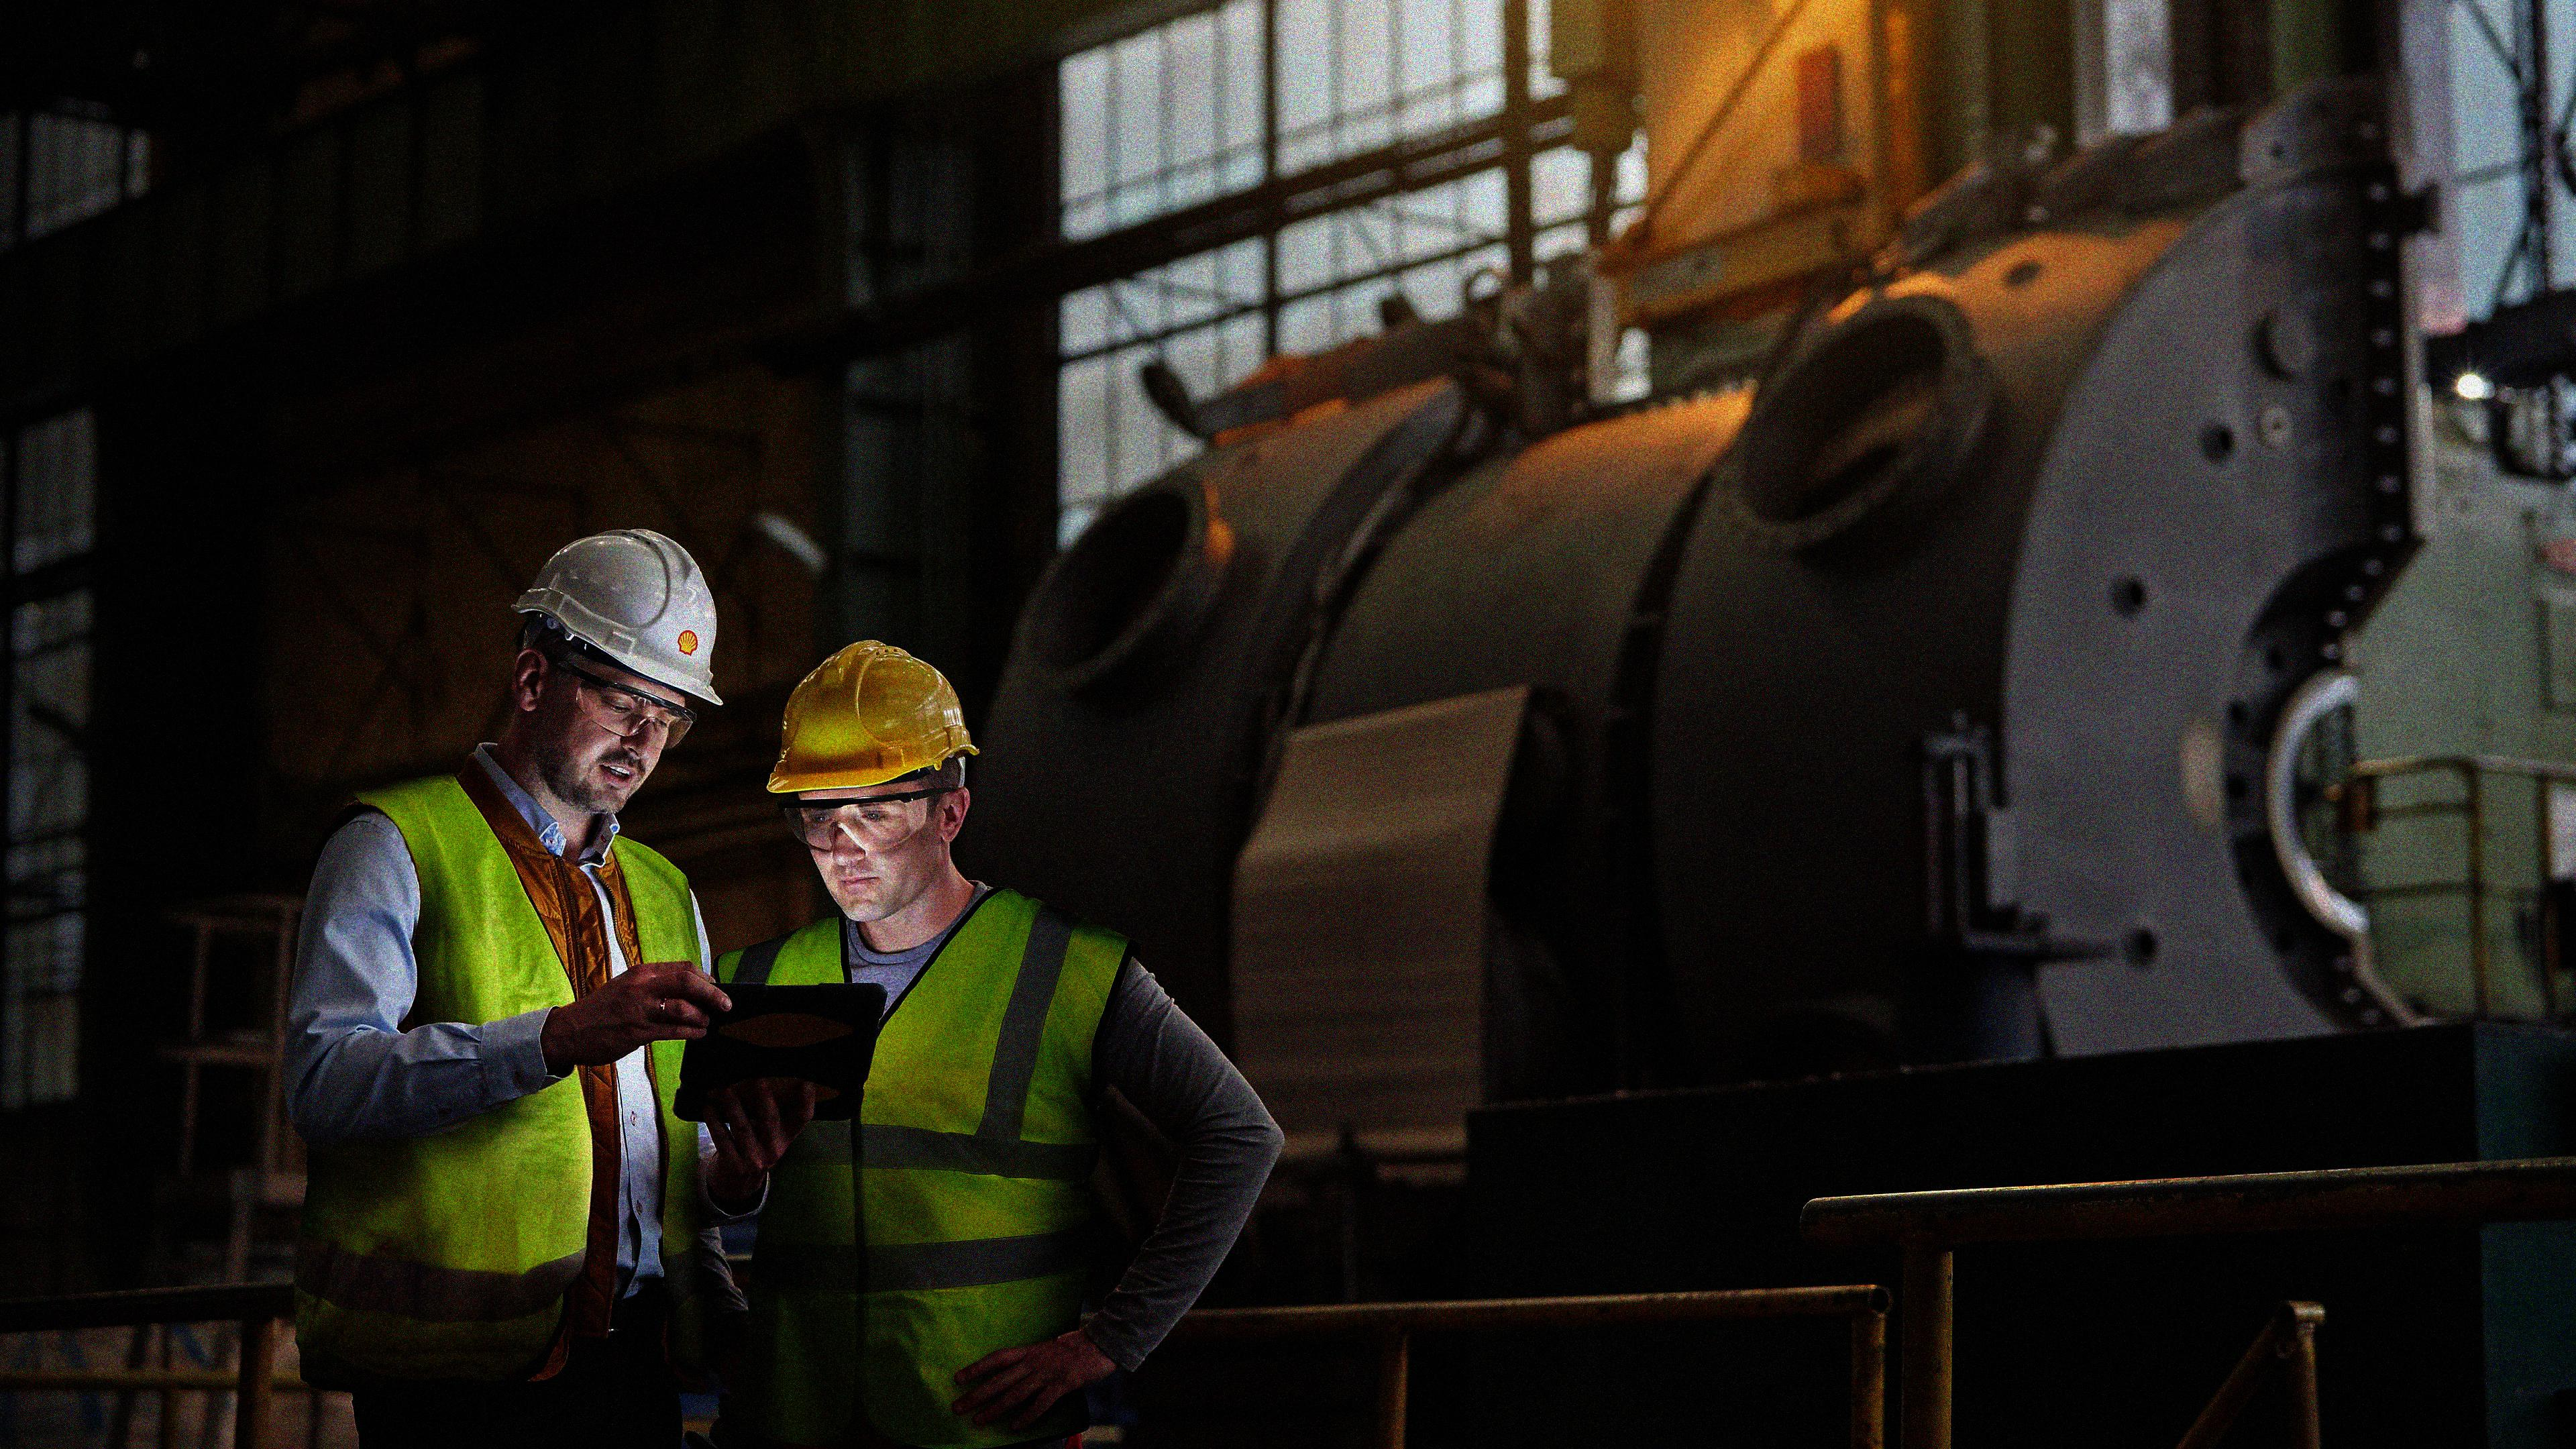helmet: (492, 520, 736, 837), (770, 644, 980, 929)
